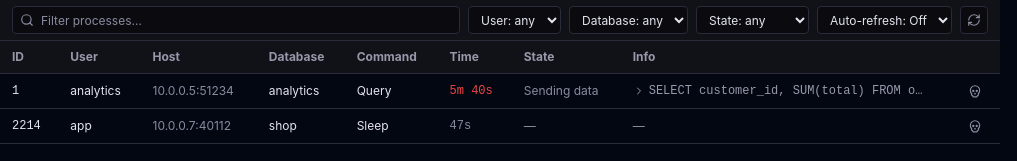
Test: ProcessListTab (browser) › opens the kill confirm without reflowing the table (#833)
The width and height of the screenshot is (1017, 161).
Check: the button titled "Kill process 2214" is shown, box [964,115,986,137]
Click the button titled "Kill process 1" at (975, 91), box [964,80,986,102]
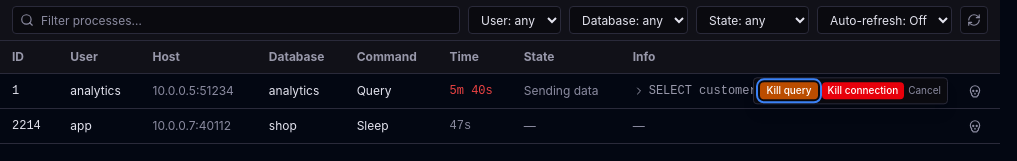
Check: the button "Kill query" is shown, box [760,82,818,100]
